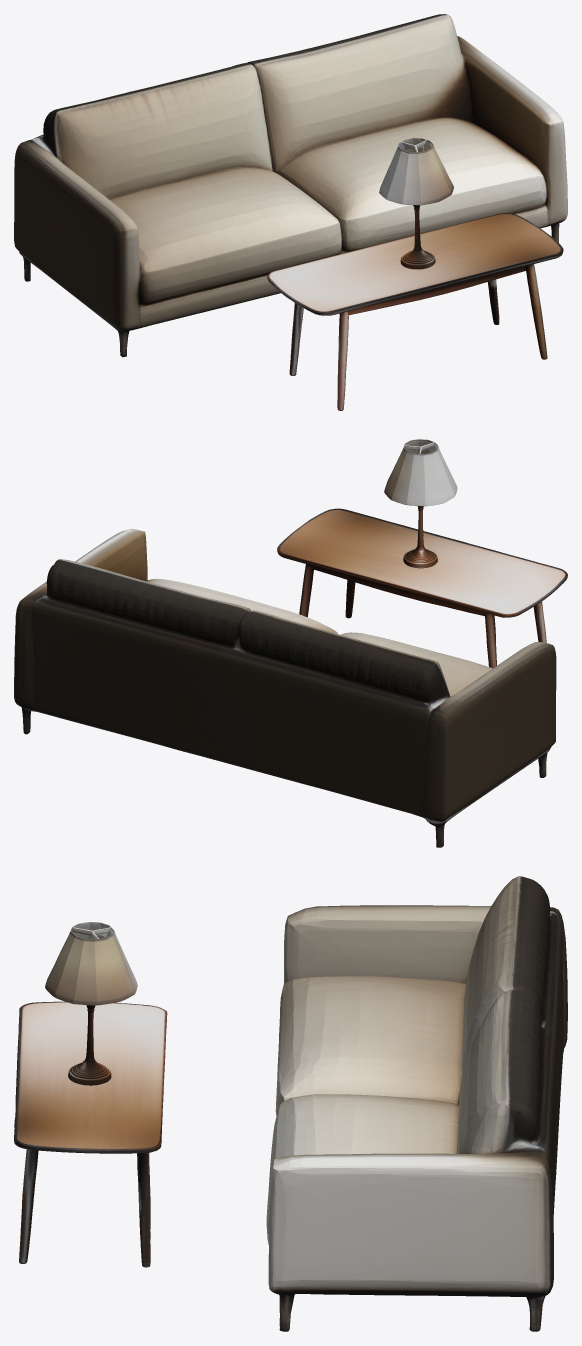
Rendered from vlm-4.glb.
3 views of the same model, one above another, from view 1: azimuth 30°, elevation 25°; view 2: azimuth 150°, elevation 25°; view 3: azimuth 270°, elevation 25° (orthographic). The views are drawn at different scales.
Visible parts, largest first — view 1: mesh_1.001; view 2: mesh_1.001; view 3: mesh_1.001.
Boxes of the visible parts, x1,y1,x2,y2 form: mesh_1.001: [14, 14, 567, 410]; mesh_1.001: [14, 439, 567, 847]; mesh_1.001: [14, 876, 567, 1331].
Bounding box in the file's own units: 6.03 × 2.87 × 5.18.
3 materials, 3 textured.
